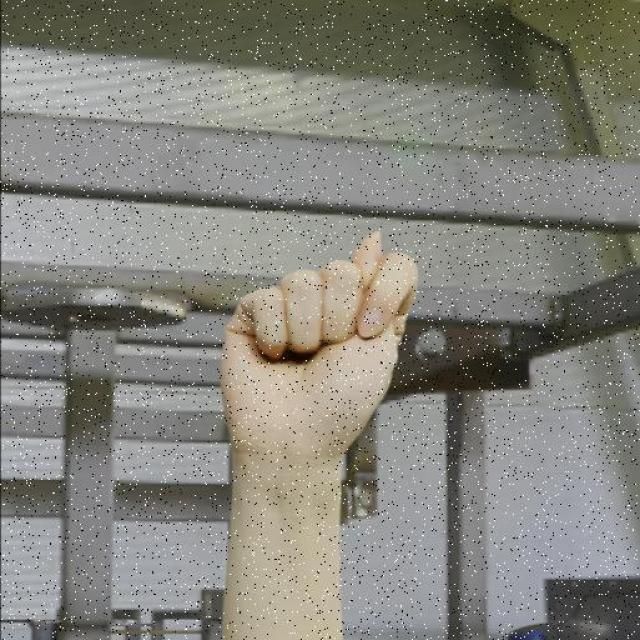T: (218, 228, 421, 460)
